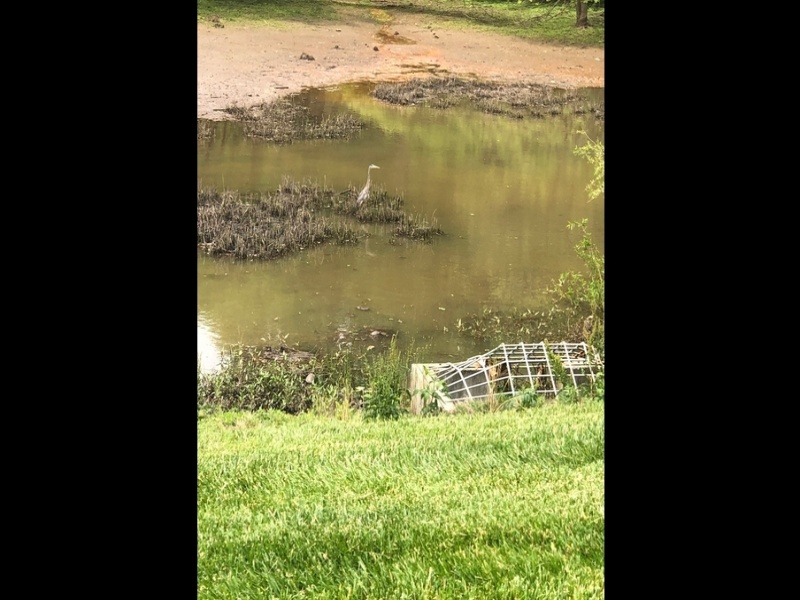heron: (357, 159, 383, 207)
